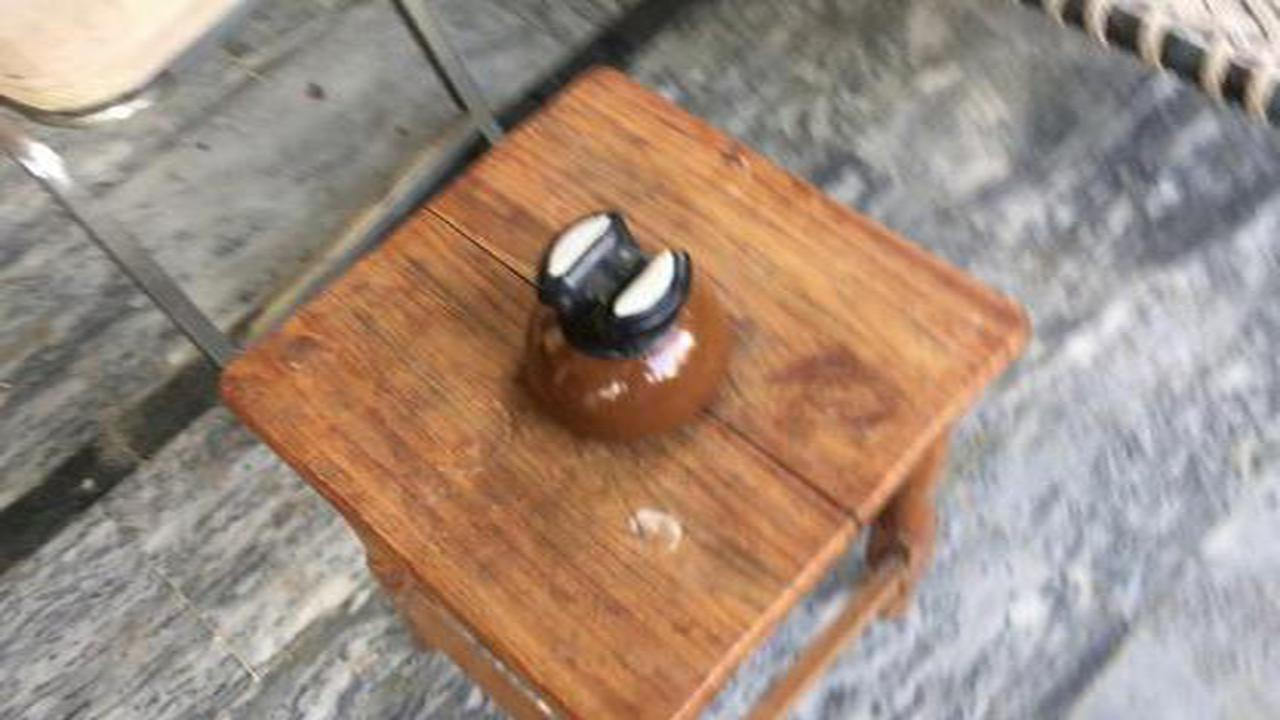insulator_pin: (487, 201, 757, 463)
